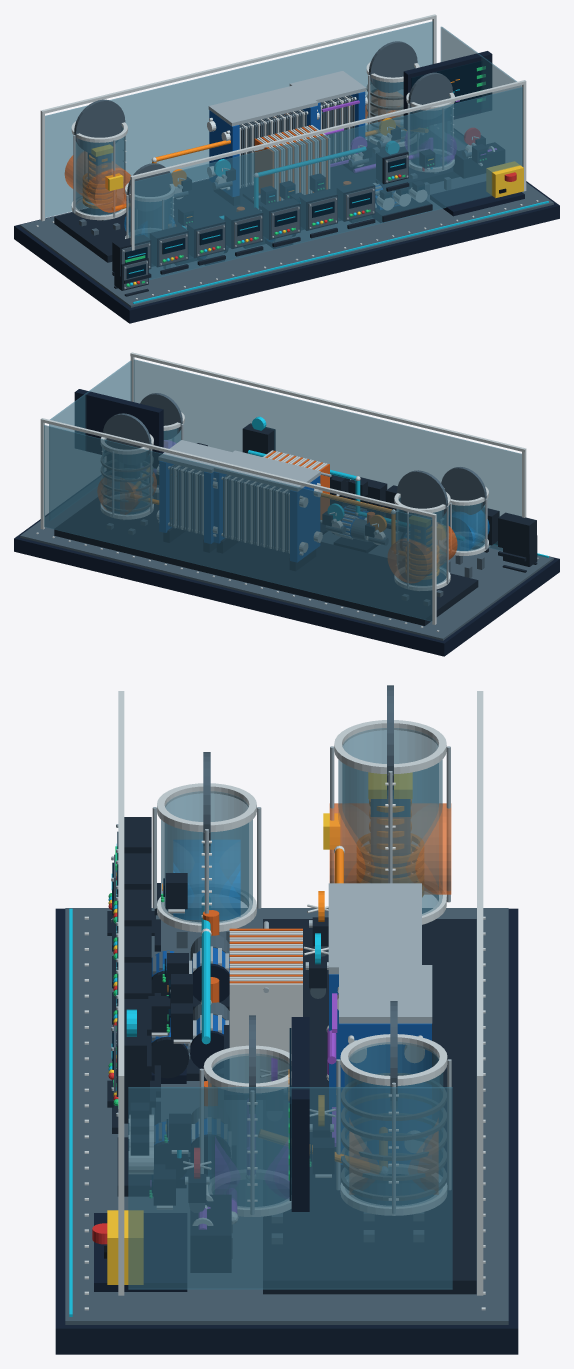
Rendered from Level68_Complete_ArtKit_Showcase.fbx.
3 views of the same model, one above another, from view 1: azimuth 30°, elevation 25°; view 2: azimuth 150°, elevation 25°; view 3: azimuth 270°, elevation 25° (orthographic). The views are drawn at different scales.
Visible parts, largest first — view 1: L67_007_glass, L67_019_steel, L67_006_dark, L67_012_navy, L67_002_chrome, L67_018_silver, L67_042_glass_ANIM_SAFETY_DOOR, L67_017_screen, L67_010_hotwater, L67_005_cyan, L67_001_blue, L67_004_copper (+5 smaller); view 2: L67_007_glass, L67_006_dark, L67_019_steel, L67_012_navy, L67_002_chrome, L67_042_glass_ANIM_SAFETY_DOOR, L67_018_silver, L67_001_blue, L67_010_hotwater, L67_003_coolwater, L67_011_insulation, L67_005_cyan (+2 smaller); view 3: L67_042_glass_ANIM_SAFETY_DOOR, L67_006_dark, L67_019_steel, L67_007_glass, L67_012_navy, L67_002_chrome, L67_018_silver, L67_010_hotwater, L67_001_blue, L67_003_coolwater, L67_022_yellow, L67_011_insulation (+6 smaller).
Part boxes in pixels (x1=…): L67_007_glass: x1=45, y1=21, x2=522, y2=279; L67_019_steel: x1=20, y1=41, x2=553, y2=307; L67_006_dark: x1=54, y1=112, x2=504, y2=296; L67_012_navy: x1=14, y1=51, x2=559, y2=323; L67_002_chrome: x1=36, y1=14, x2=538, y2=299; L67_018_silver: x1=73, y1=71, x2=453, y2=289; L67_042_glass_ANIM_SAFETY_DOOR: x1=440, y1=26, x2=521, y2=165; L67_017_screen: x1=125, y1=59, x2=489, y2=278; L67_010_hotwater: x1=64, y1=90, x2=402, y2=212; L67_005_cyan: x1=127, y1=89, x2=548, y2=303; L67_001_blue: x1=199, y1=91, x2=399, y2=258; L67_004_copper: x1=175, y1=125, x2=350, y2=226; L67_007_glass: x1=44, y1=359, x2=521, y2=621; L67_006_dark: x1=54, y1=423, x2=537, y2=625; L67_019_steel: x1=20, y1=393, x2=553, y2=640; L67_012_navy: x1=14, y1=389, x2=559, y2=656; L67_002_chrome: x1=36, y1=352, x2=538, y2=631; L67_042_glass_ANIM_SAFETY_DOOR: x1=49, y1=361, x2=131, y2=520; L67_018_silver: x1=102, y1=424, x2=487, y2=587; L67_001_blue: x1=159, y1=461, x2=368, y2=562; L67_010_hotwater: x1=97, y1=473, x2=457, y2=582; L67_003_coolwater: x1=449, y1=510, x2=489, y2=550; L67_011_insulation: x1=101, y1=455, x2=153, y2=511; L67_005_cyan: x1=248, y1=416, x2=548, y2=557; L67_042_glass_ANIM_SAFETY_DOOR: x1=128, y1=1087, x2=452, y2=1289; L67_006_dark: x1=107, y1=817, x2=476, y2=1294; L67_019_steel: x1=65, y1=685, x2=508, y2=1324; L67_007_glass: x1=161, y1=728, x2=443, y2=1206; L67_012_navy: x1=55, y1=908, x2=518, y2=1354; L67_002_chrome: x1=84, y1=691, x2=485, y2=1310; L67_018_silver: x1=111, y1=746, x2=451, y2=1214; L67_010_hotwater: x1=329, y1=803, x2=451, y2=1193; L67_001_blue: x1=151, y1=947, x2=431, y2=1164; L67_003_coolwater: x1=173, y1=840, x2=240, y2=919; L67_022_yellow: x1=107, y1=772, x2=412, y2=1284; L67_011_insulation: x1=341, y1=1073, x2=446, y2=1200.
Size of the model in its own units: 14.4 by 4.81 by 6.7.
